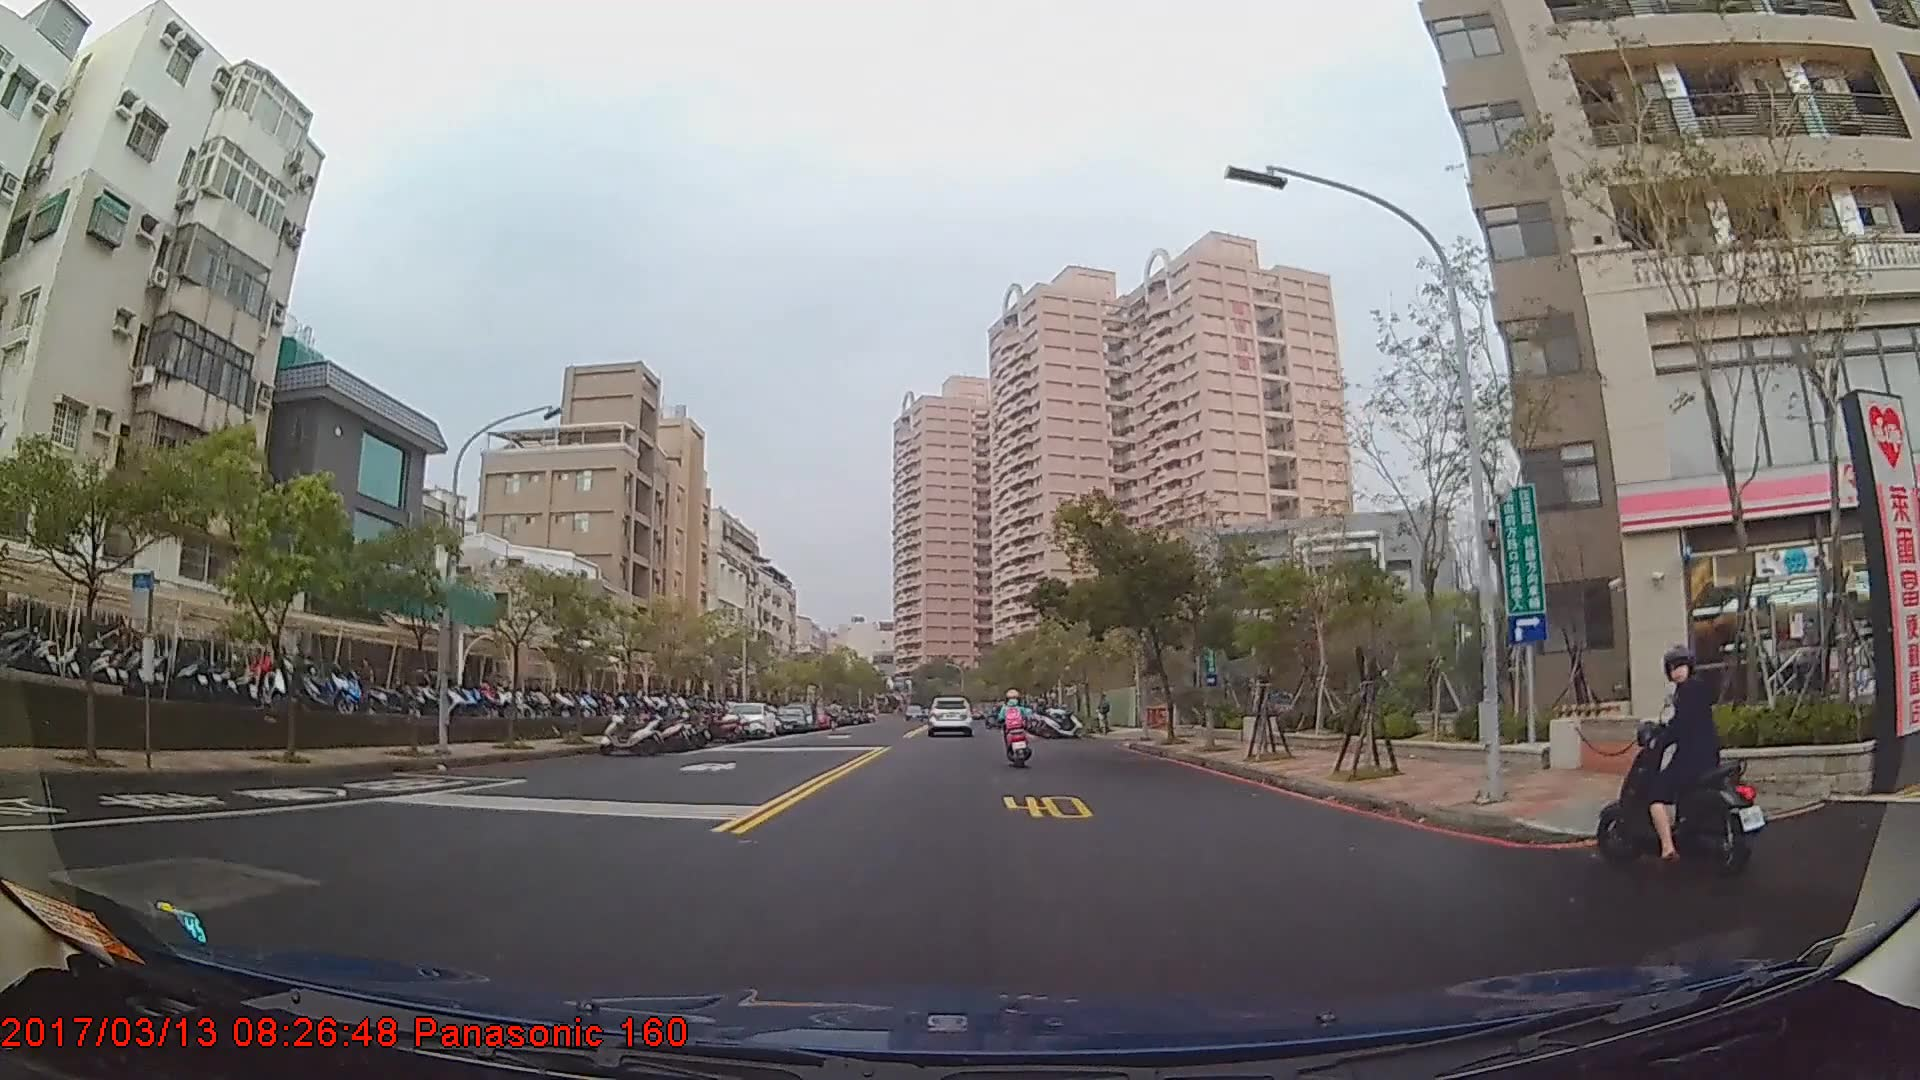rider: (1595, 633, 1776, 866), (999, 689, 1035, 767)
vehicle: (718, 699, 777, 738), (925, 691, 976, 733), (773, 702, 807, 733)
